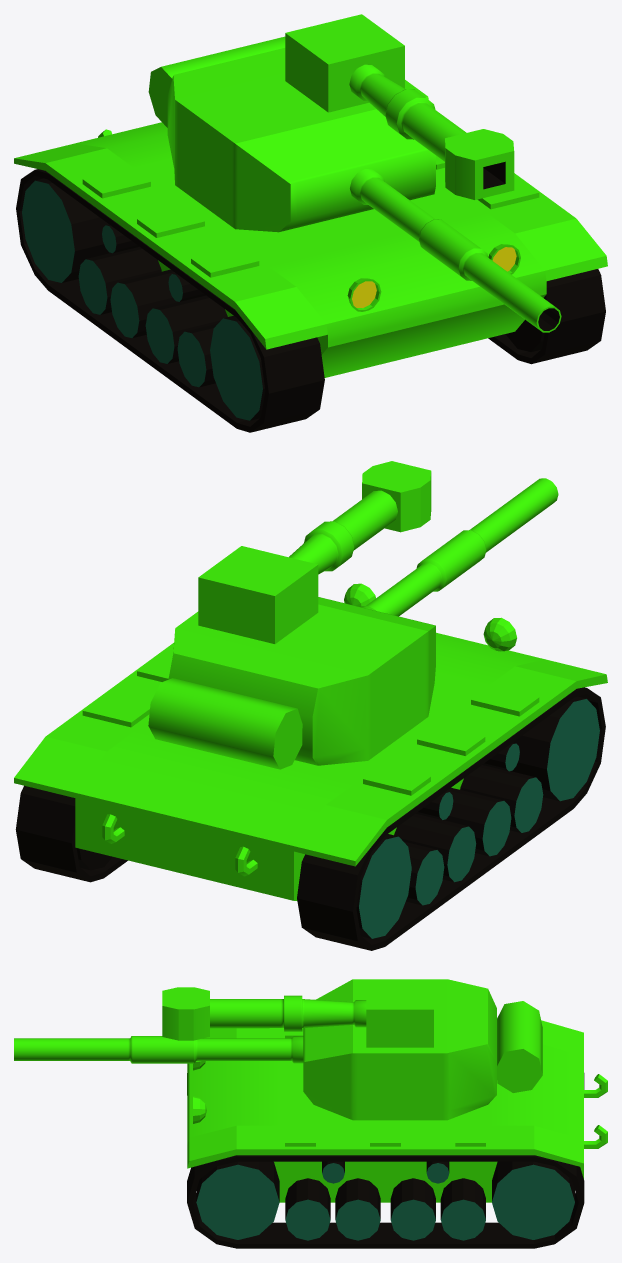
File: hero_1.FBX
The picture shows the model from 3 angles, top to bottom: view 1: azimuth 30°, elevation 25°; view 2: azimuth 150°, elevation 25°; view 3: azimuth 270°, elevation 25°; orthographic projection. The views are drawn at different scales.
Visible parts, largest first — view 1: chassis, turret, TankTracks, gun_1, gun_0; view 2: chassis, turret, TankTracks, gun_1, gun_0; view 3: chassis, TankTracks, turret, gun_1, gun_0.
Boxes of the visible parts, x1,y1,x2,y2 form: chassis: [14, 122, 607, 377]; turret: [148, 14, 435, 232]; TankTracks: [16, 169, 605, 432]; gun_1: [349, 64, 514, 199]; gun_0: [350, 169, 561, 332]; chassis: [14, 583, 607, 900]; turret: [148, 546, 435, 769]; TankTracks: [15, 687, 605, 950]; gun_1: [289, 461, 431, 574]; gun_0: [360, 478, 558, 616]; chassis: [187, 1020, 607, 1202]; TankTracks: [187, 1073, 584, 1248]; turret: [303, 979, 542, 1120]; gun_1: [162, 987, 366, 1040]; gun_0: [14, 1036, 303, 1063].
Size of the model in its own units: 140 by 103 by 269.
